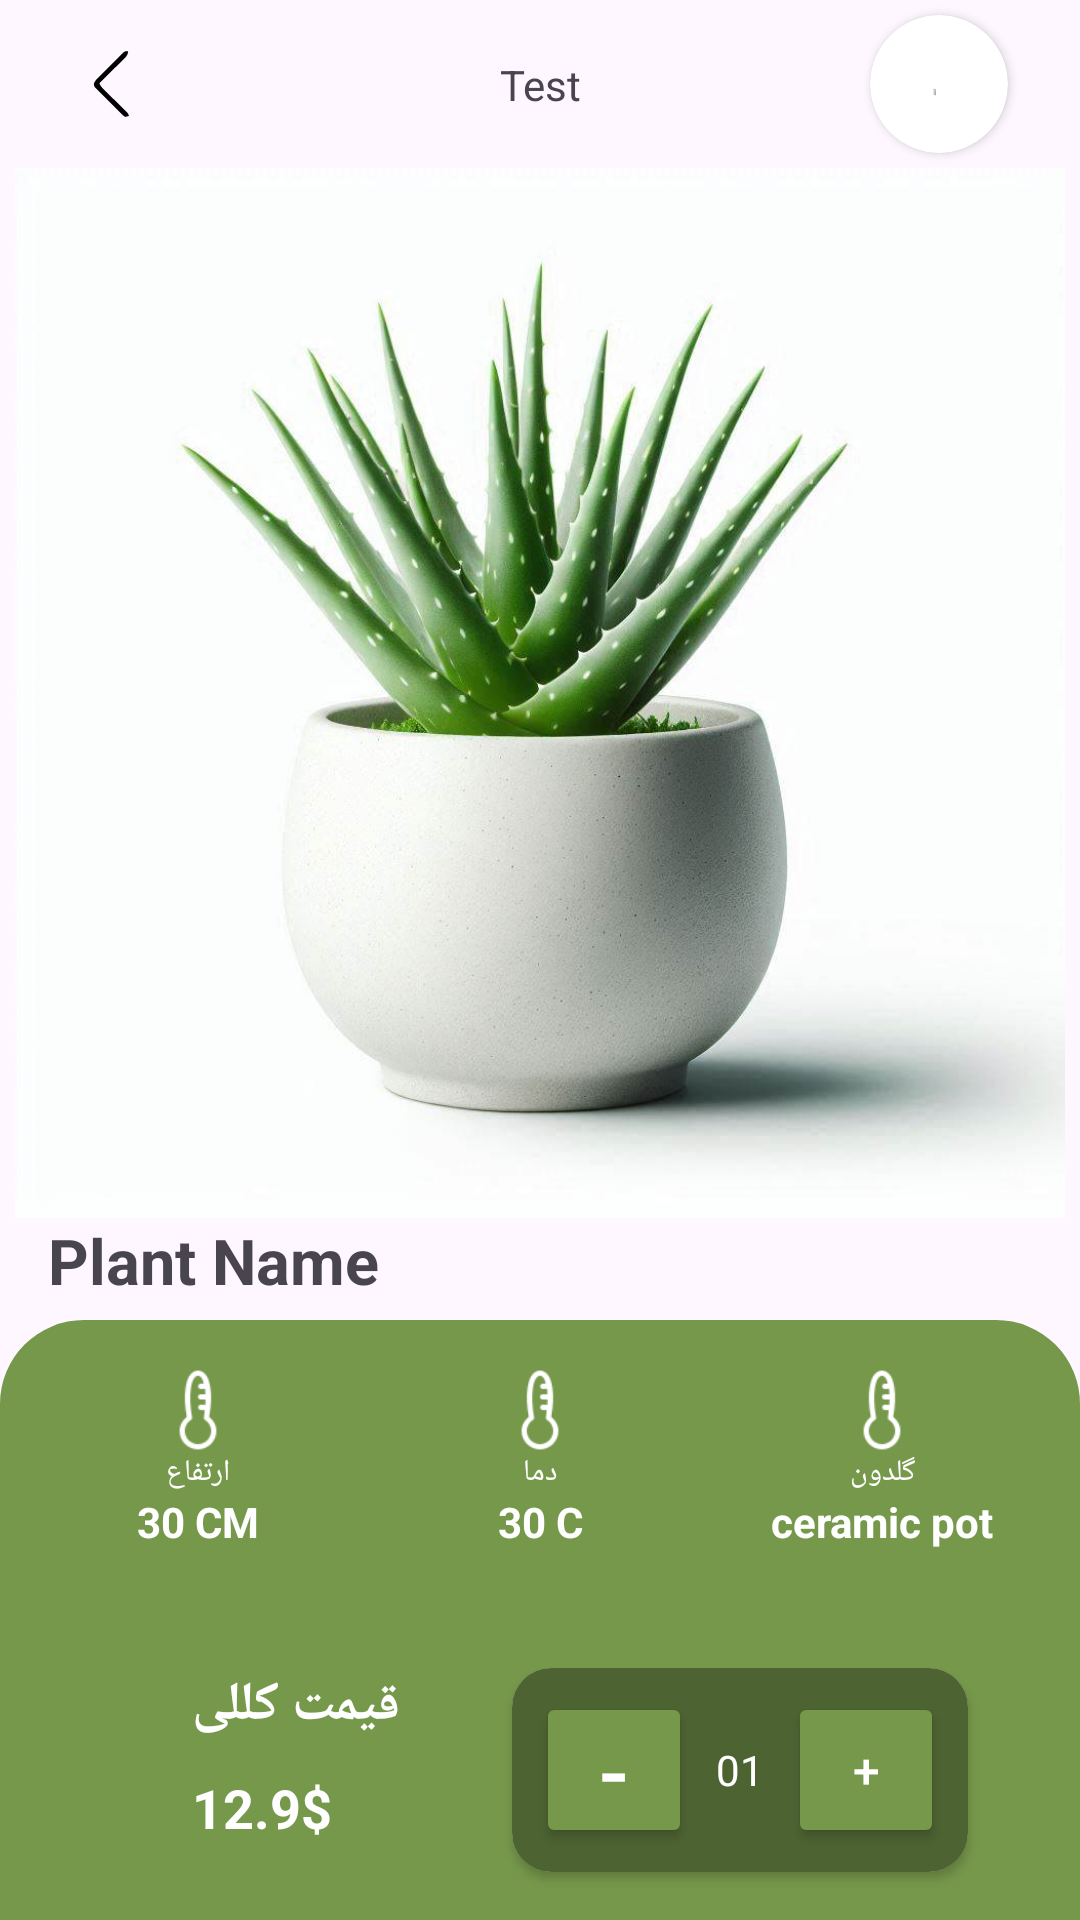

Icons on this 1080w x 1920h Android screen, each with the point to tap as point (x, y):
backward: point (111, 84)
